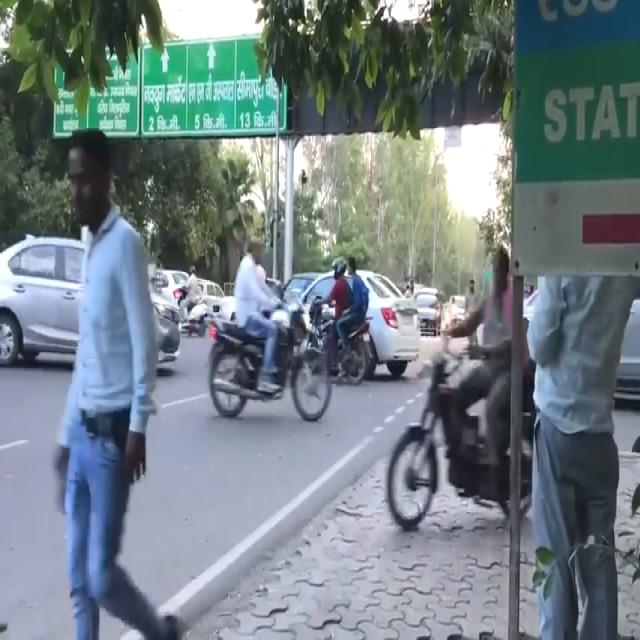MOTORCYCLE: (207, 302, 333, 424), (304, 300, 372, 387)
